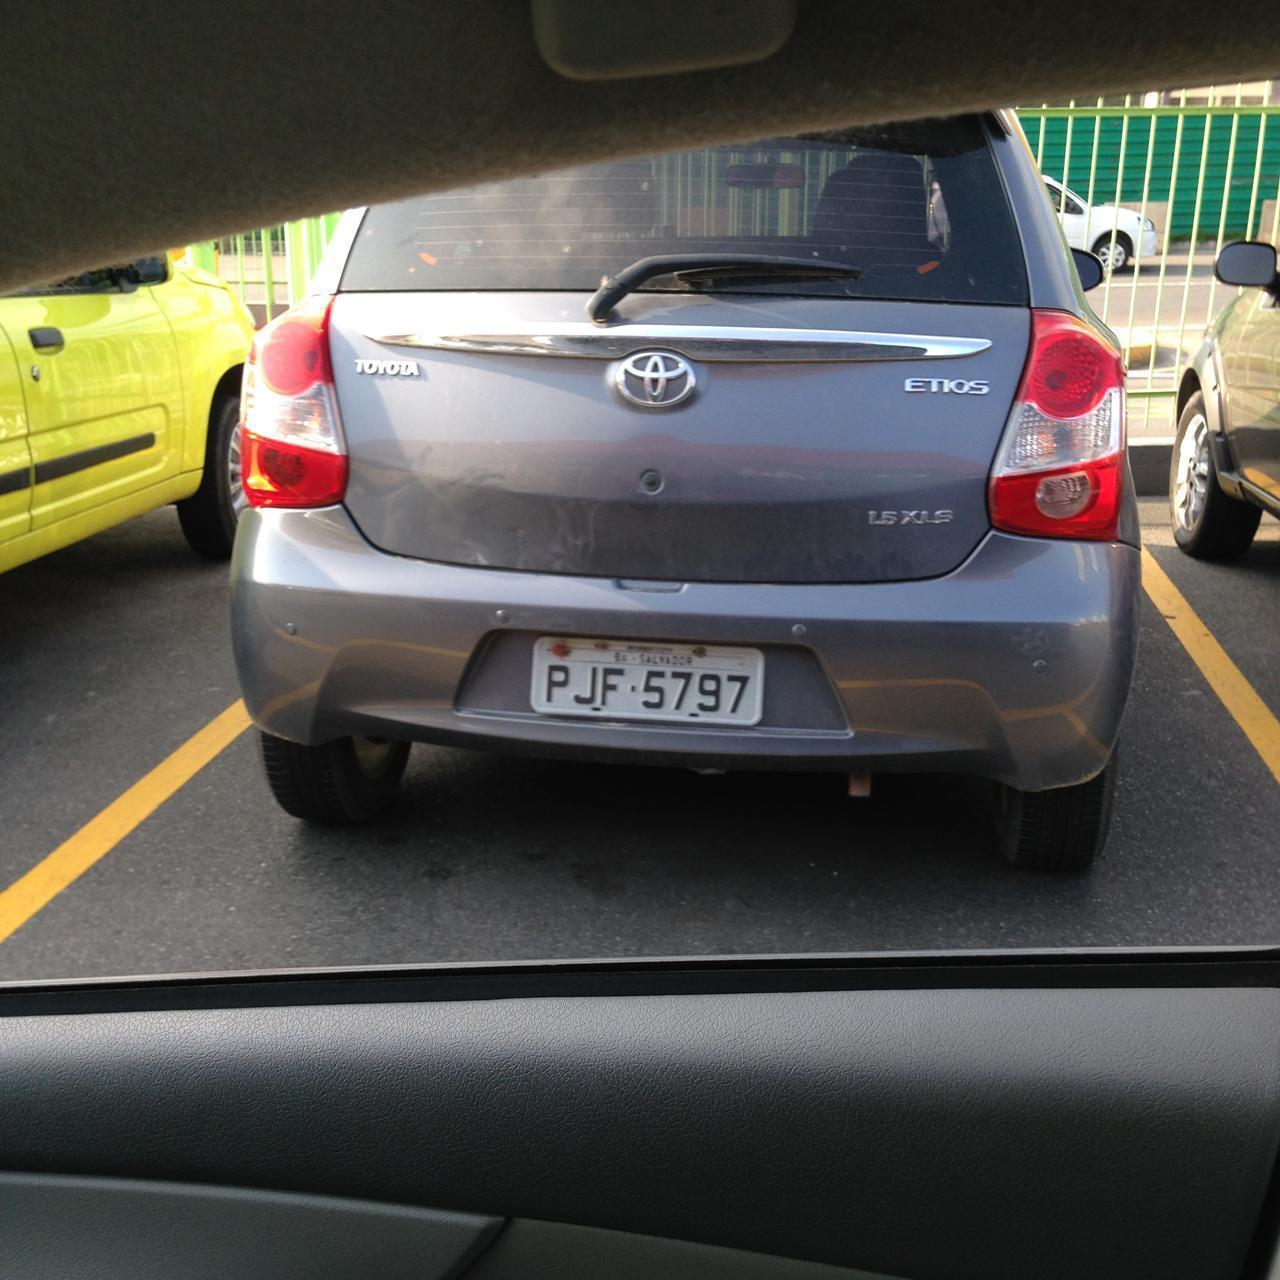placa de veiculo: (521, 617, 780, 739)
